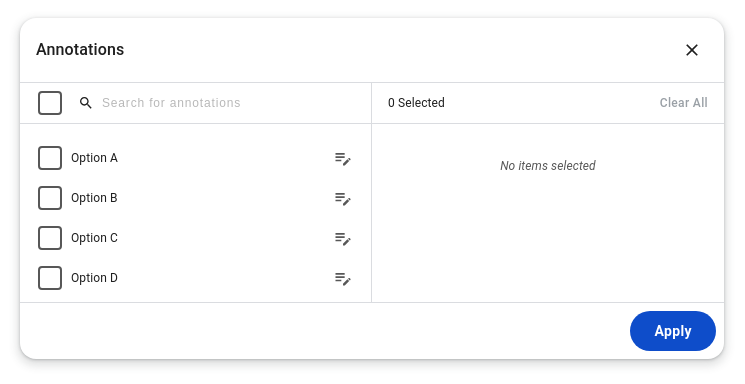
Test: FilterAnnotationsMultiSelect › rendering › should show "Select all" tooltip on hover of select-all checkbox
Hover over the element with test id "select-all-checkbox" at {"x": 50, "y": 103}, box [38, 91, 62, 115]
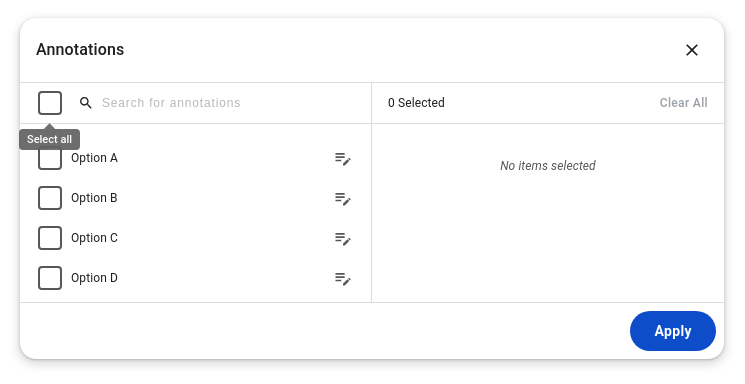
Now the tooltip reads "Select all", box [27, 133, 72, 146]
